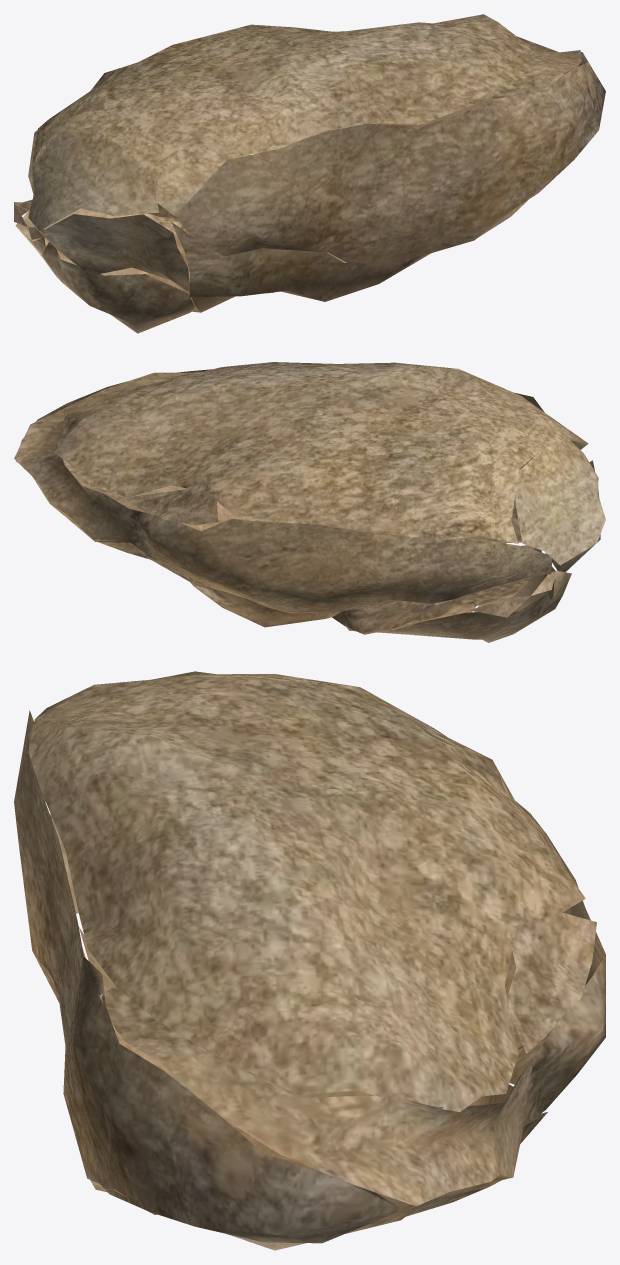
The model's file is rock05.glb.
3 views of the same model, one above another, from view 1: azimuth 30°, elevation 25°; view 2: azimuth 150°, elevation 25°; view 3: azimuth 270°, elevation 25° (orthographic). The views are drawn at different scales.
Visible parts, largest first — view 1: namaqualand_boulder_05; view 2: namaqualand_boulder_05; view 3: namaqualand_boulder_05.
Boxes of the visible parts, x1,y1,x2,y2 form: namaqualand_boulder_05: (14,14,605,333); namaqualand_boulder_05: (14,362,605,642); namaqualand_boulder_05: (14,671,605,1250).
Bounding box in the file's own units: 2.6 × 1 × 1.4.
Materials: 1 (1 with a texture image).
